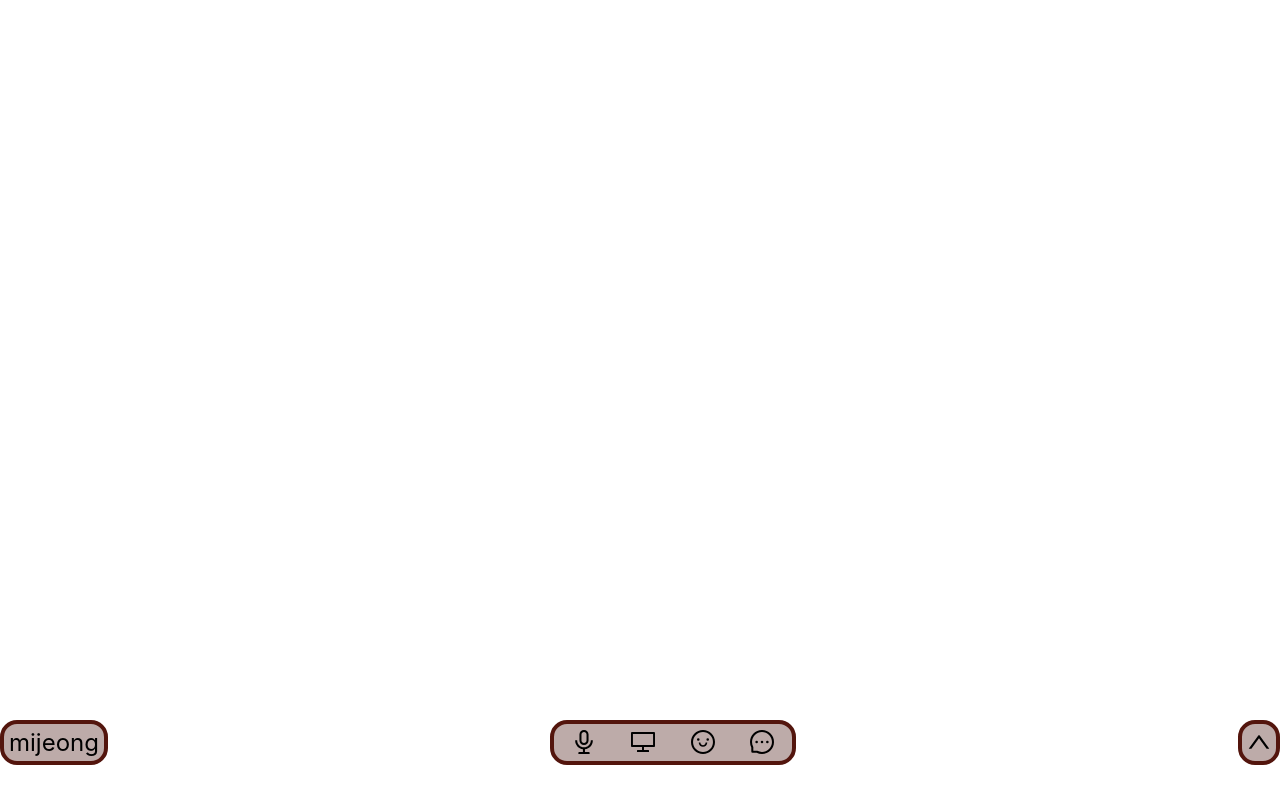
Scenario: Navigator test › 채팅 아이콘을 누르면 채팅 창이 떠야함.
Click the picture named "message".
click(762, 742)  # box x1=750 y1=730 x2=774 y2=754
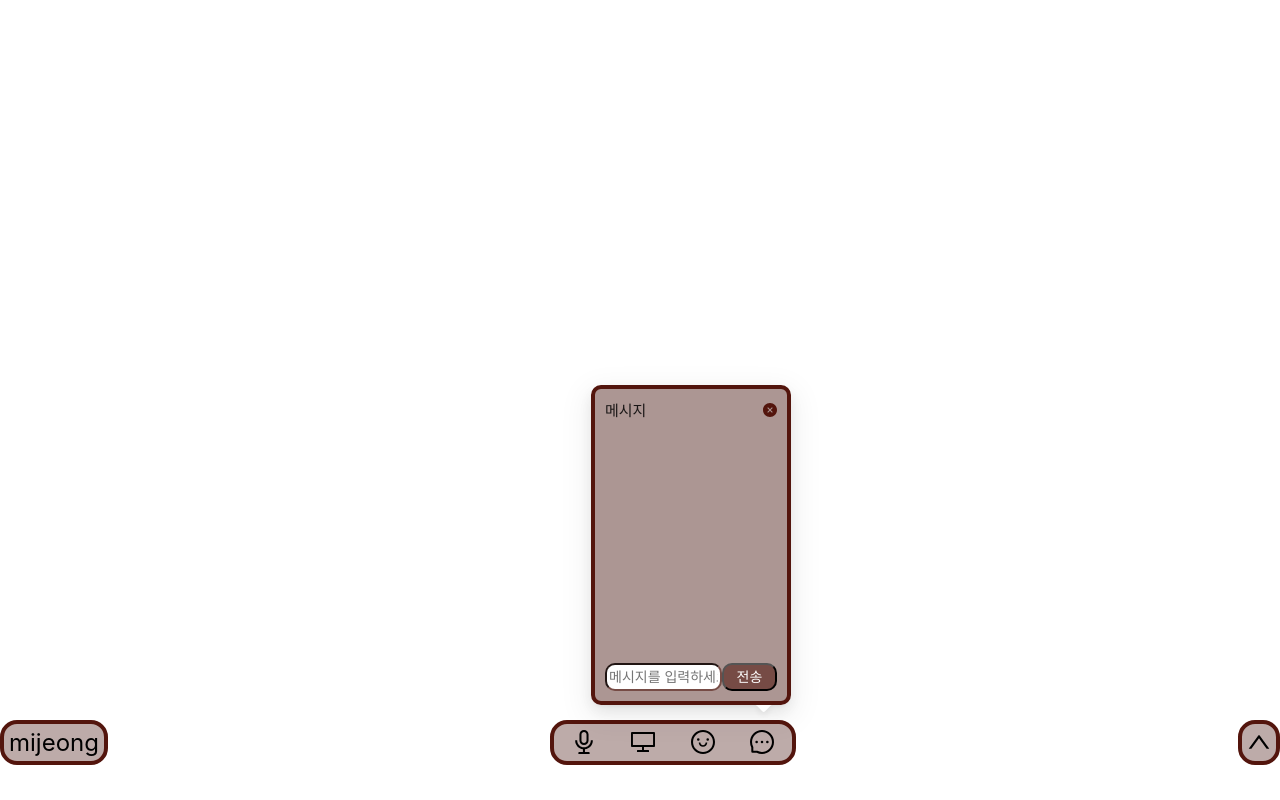
Now the text "메시지" is shown, box x1=605 y1=399 x2=646 y2=423
